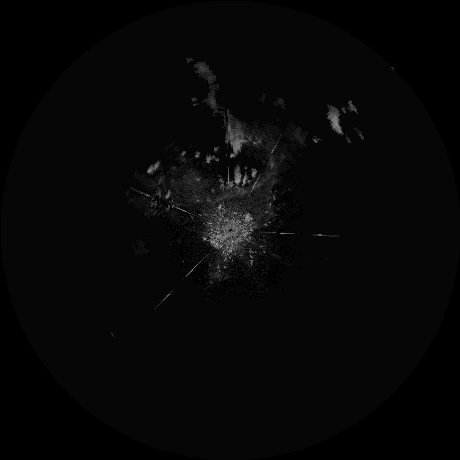frontgust: (217, 177, 272, 205)
